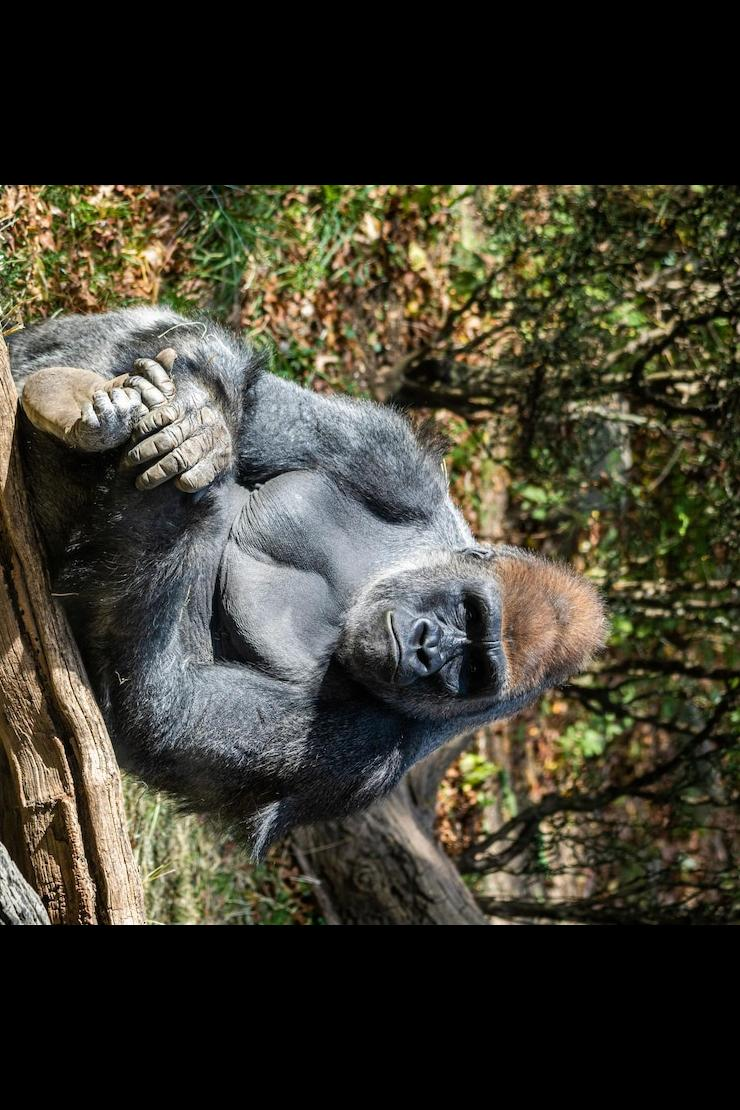gorille_Autres: (7, 222, 714, 871)
